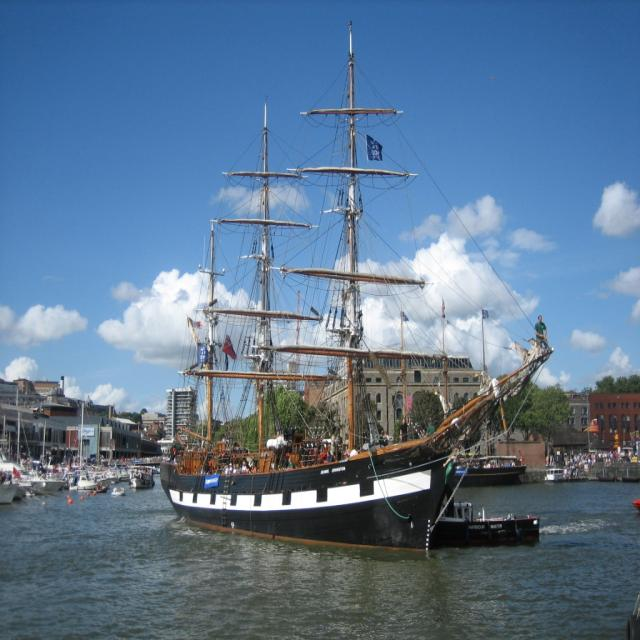Boat: (156, 14, 554, 555), (397, 295, 527, 488), (0, 402, 161, 505), (428, 485, 544, 548), (544, 466, 569, 483), (632, 496, 640, 513)
